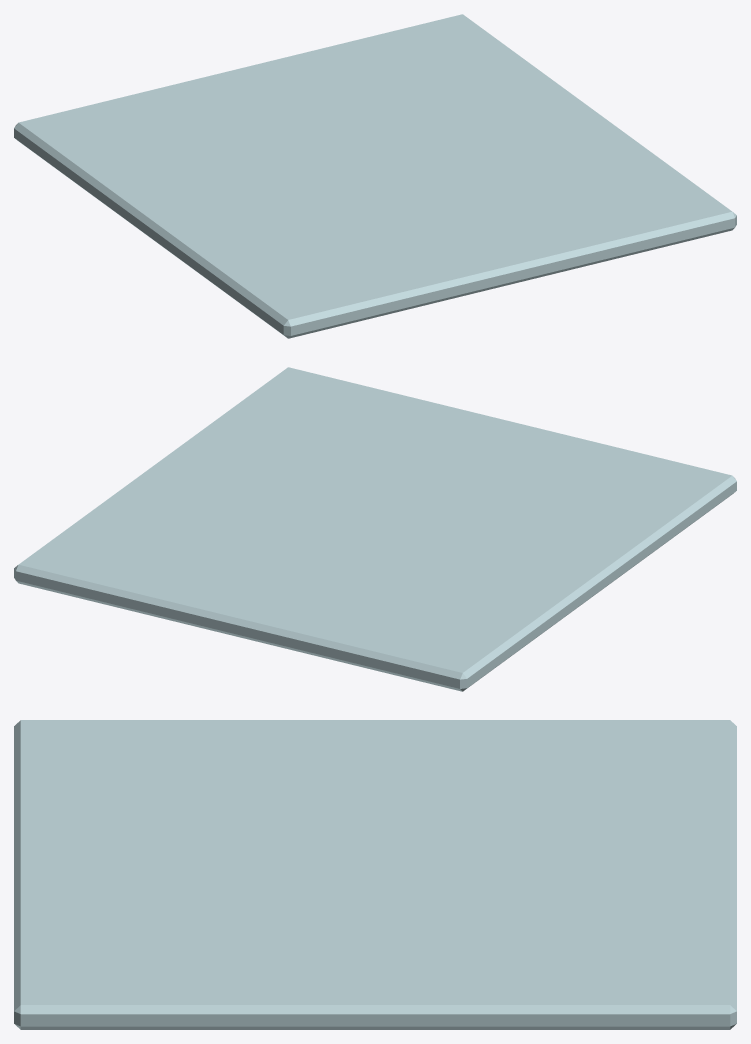
File: Platform1.fbx
The picture shows the model from 3 angles, top to bottom: view 1: azimuth 30°, elevation 25°; view 2: azimuth 150°, elevation 25°; view 3: azimuth 270°, elevation 25°; orthographic projection. The views are drawn at different scales.
Visible parts, largest first — view 1: Platform1; view 2: Platform1; view 3: Platform1.
Boxes of the visible parts, left/top/right/bottom form: Platform1: left=14, top=14, right=736, bottom=338; Platform1: left=14, top=367, right=736, bottom=691; Platform1: left=14, top=720, right=736, bottom=1029.
Bounding box in the file's own units: 11.28 × 0.4469 × 11.85.
